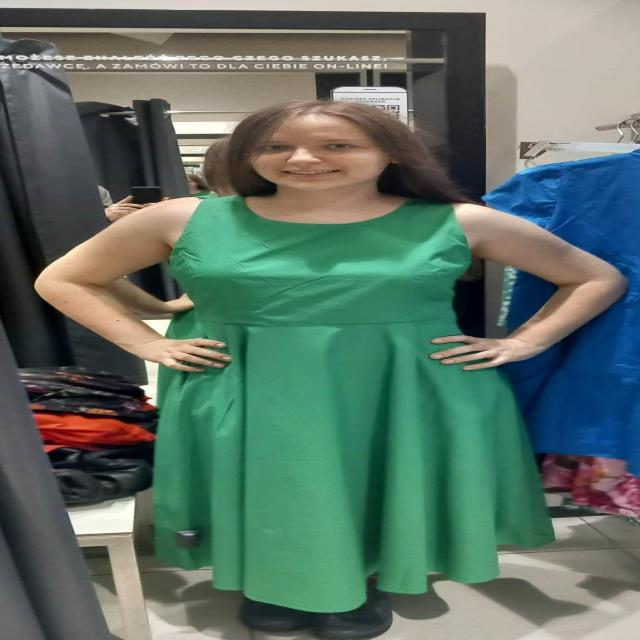dress: (149, 193, 558, 614)
